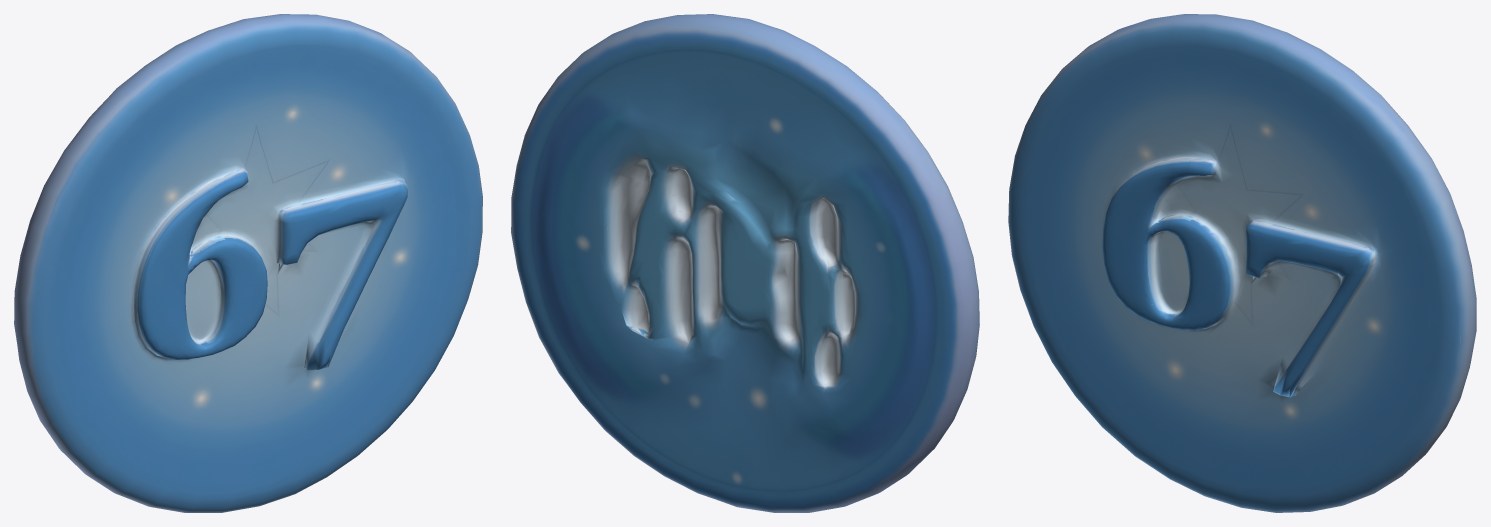
Rendered from advanced-coin-3d-model-blue.glb.
3 renders of one model, left to right at view 1: azimuth 30°, elevation 25°; view 2: azimuth 150°, elevation 25°; view 3: azimuth 330°, elevation 25°, orthographic.
Bounding box in the file's own units: 1.91 × 1.92 × 0.2279.
Materials: 1 (1 with a texture image).
